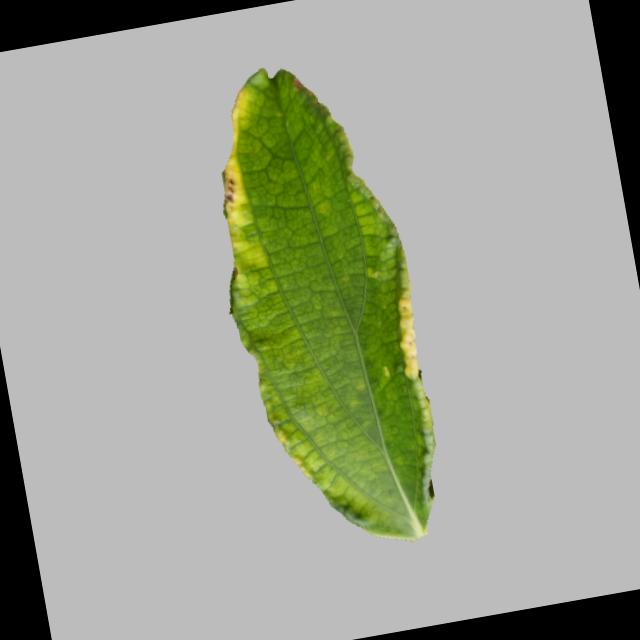yellow-mottle-virus: (173, 47, 462, 562)
